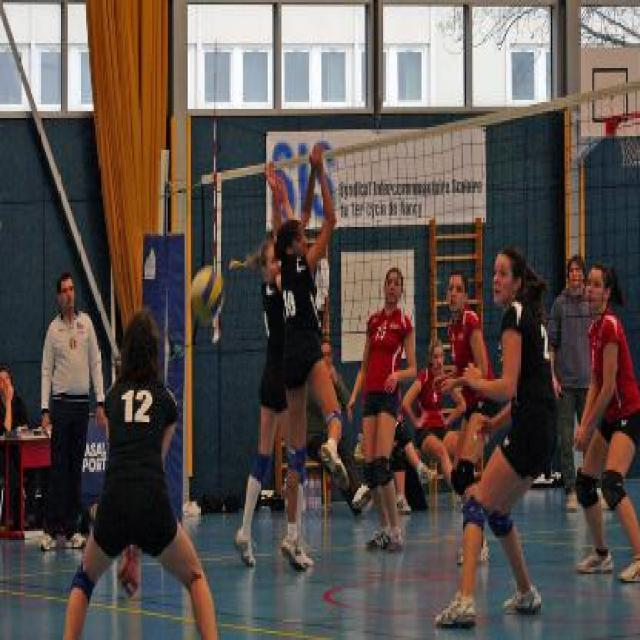volleyball: (190, 266, 223, 325)
